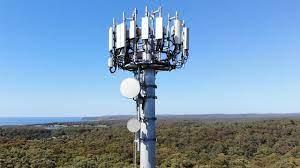Microwave Antenna: (118, 75, 147, 100), (125, 117, 144, 136)
antenna: (171, 17, 184, 46), (115, 20, 128, 47), (140, 13, 150, 43), (153, 14, 163, 41), (106, 23, 114, 51), (129, 20, 138, 40)
